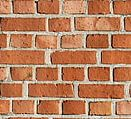brick: (27, 82, 77, 97), (1, 49, 47, 64), (49, 50, 98, 64), (75, 16, 122, 30), (78, 84, 125, 98), (1, 16, 47, 30), (99, 49, 131, 64), (85, 33, 110, 49), (60, 98, 86, 113), (60, 33, 84, 49), (12, 98, 36, 114), (10, 32, 35, 47), (48, 15, 72, 30), (35, 66, 59, 81), (62, 65, 85, 80), (1, 82, 24, 97), (88, 101, 114, 114), (10, 66, 34, 80), (37, 99, 61, 113), (88, 66, 110, 81), (87, 1, 112, 14), (35, 34, 57, 48), (111, 33, 131, 48), (13, 1, 36, 14), (37, 1, 60, 14), (63, 1, 87, 12), (114, 101, 131, 116), (113, 66, 131, 80), (113, 1, 130, 13), (1, 98, 11, 115), (1, 1, 13, 13)
